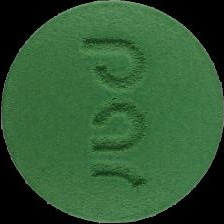24236-075: (0, 0, 224, 224)
